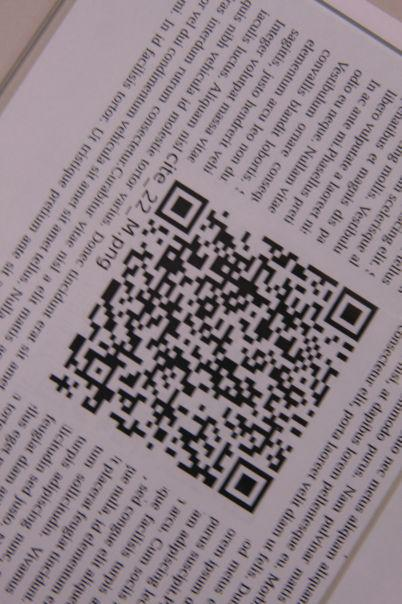Finder pattern: (212, 455, 278, 515), (319, 282, 384, 341), (149, 181, 212, 237)
